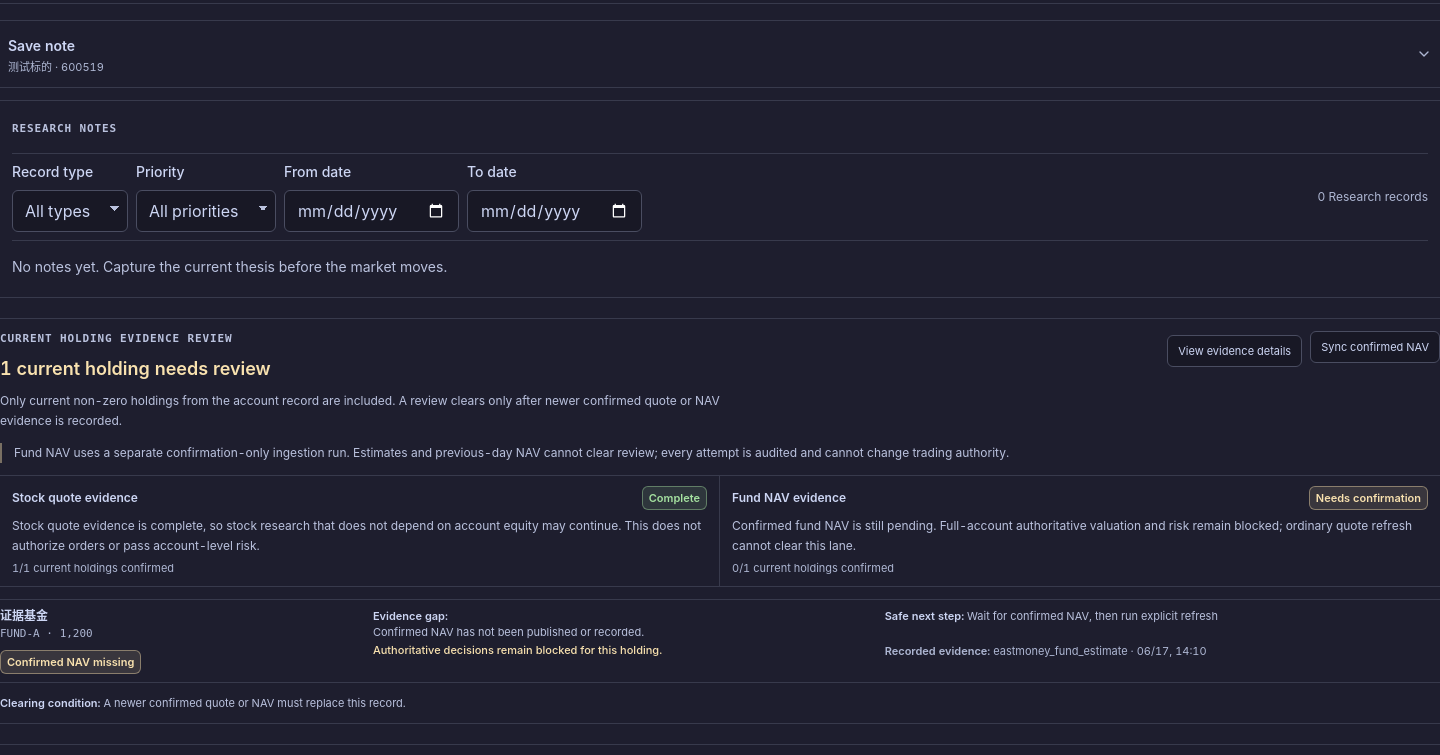
Scenario: routes confirmed NAV blockers through confirmation-only ingestion
(page scrolled)
Expected: the text "Stock quote evidence is complete, so stock research that does not depend on account equity may continue. This does not a" is shown, x1=12 y1=518 x2=701 y2=552
Expected: the text "Confirmed fund NAV is still pending. Full-account authoritative valuation and risk remain blocked; ordinary quote refres" is shown, x1=732 y1=518 x2=1412 y2=552
Click the button "View evidence details": coordinates (1235, 350) x1=1167 y1=334 x2=1302 y2=366
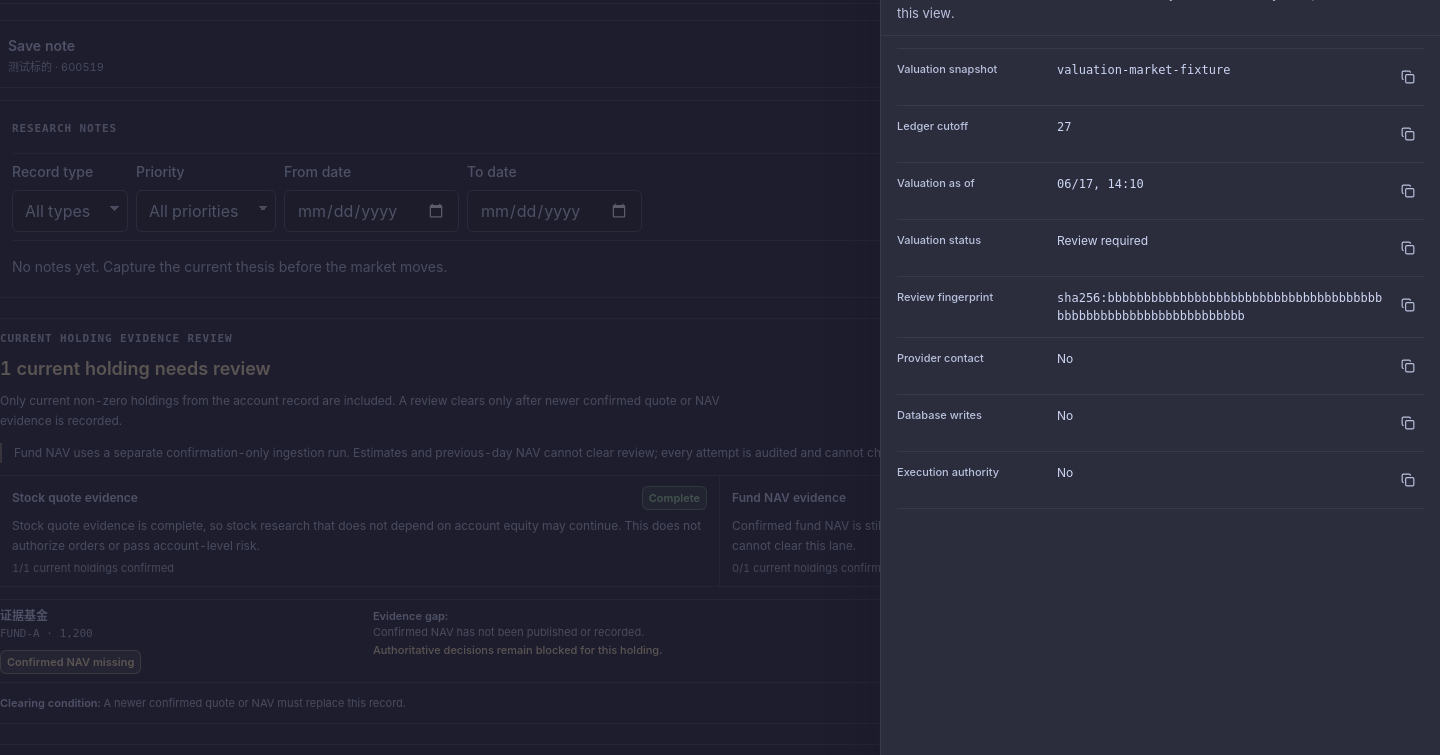
Expected: the text "valuation-market-fixture" is shown, x1=1057 y1=61 x2=1230 y2=79
Press Escape
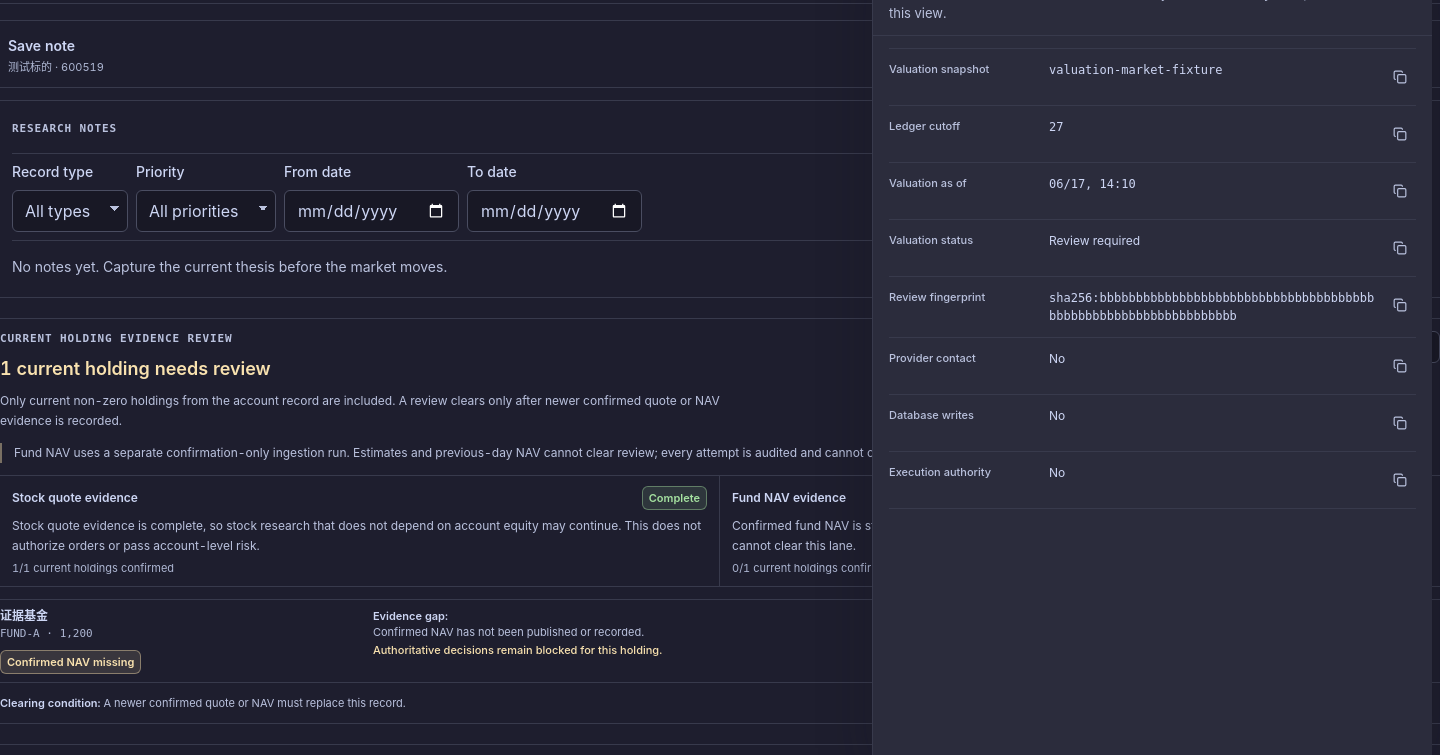
Click the button "Sync confirmed NAV": coordinates (1375, 346) x1=1310 y1=330 x2=1439 y2=362
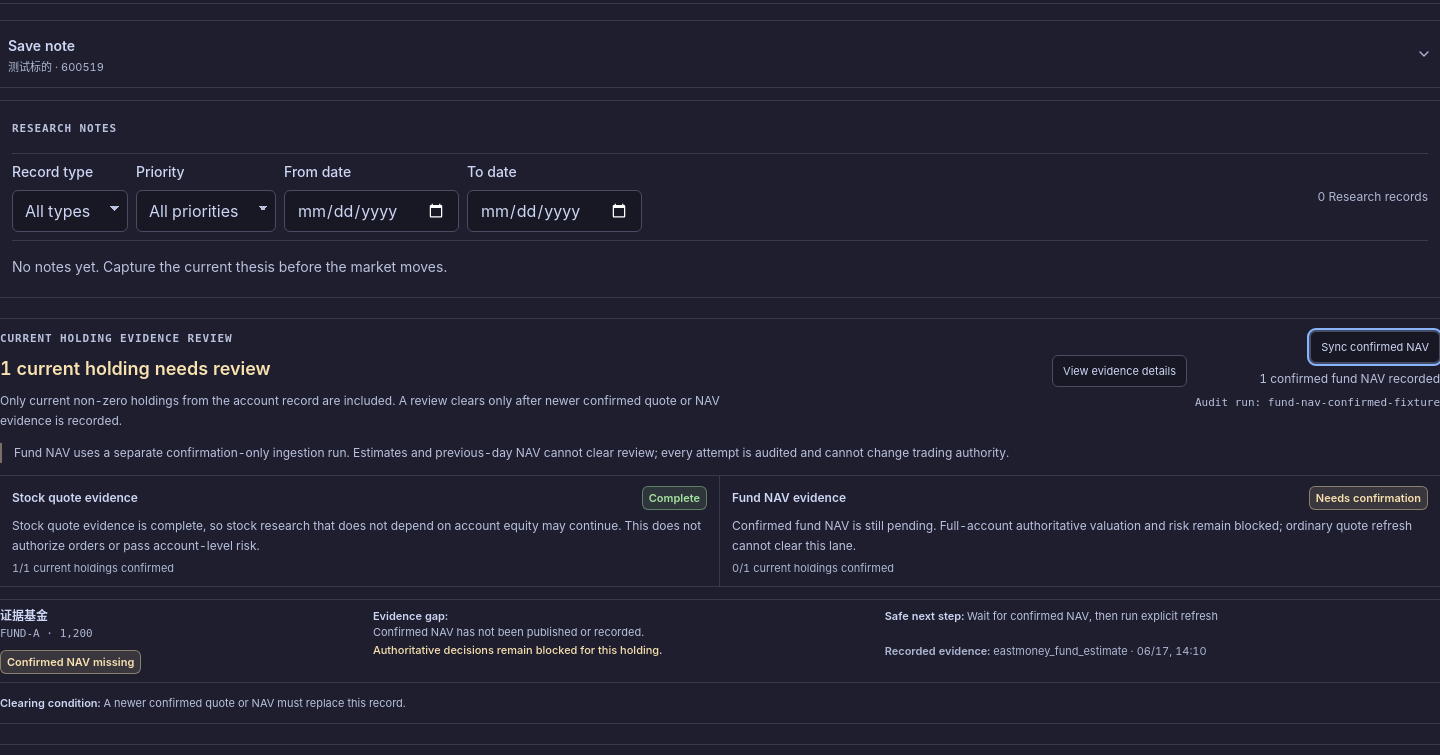
Expected: the text "1 confirmed fund NAV recorded" is shown, x1=1259 y1=370 x2=1439 y2=386
